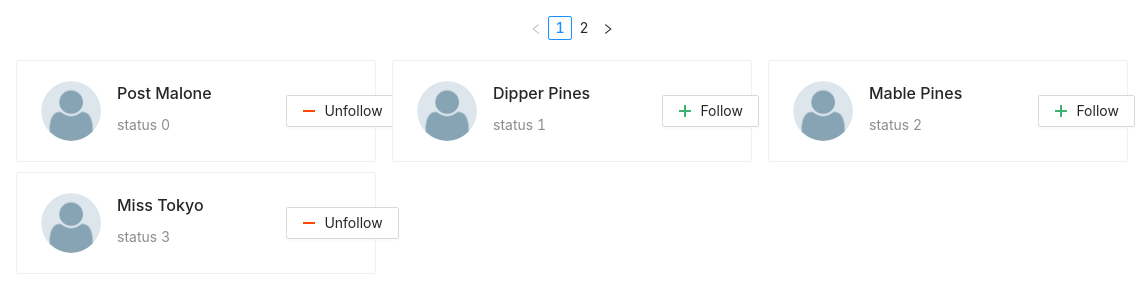
Users Component › user should be unfollowed
Expected: the element with test id "UserItem.0" is shown, x1=16 y1=60 x2=376 y2=162
Click the button with test id "FollowUser.Submit.0" at {"x": 343, "y": 111}, box x1=286 y1=95 x2=399 y2=127
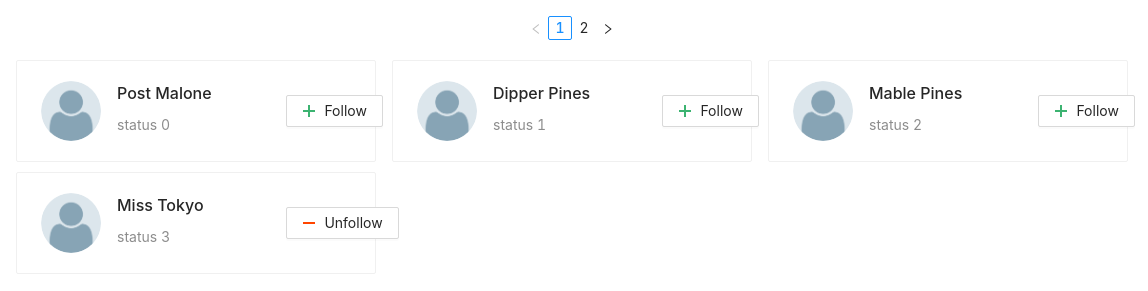
Expected: the button with test id "FollowUser.Submit.0" reads "Follow", x1=286 y1=95 x2=383 y2=127
